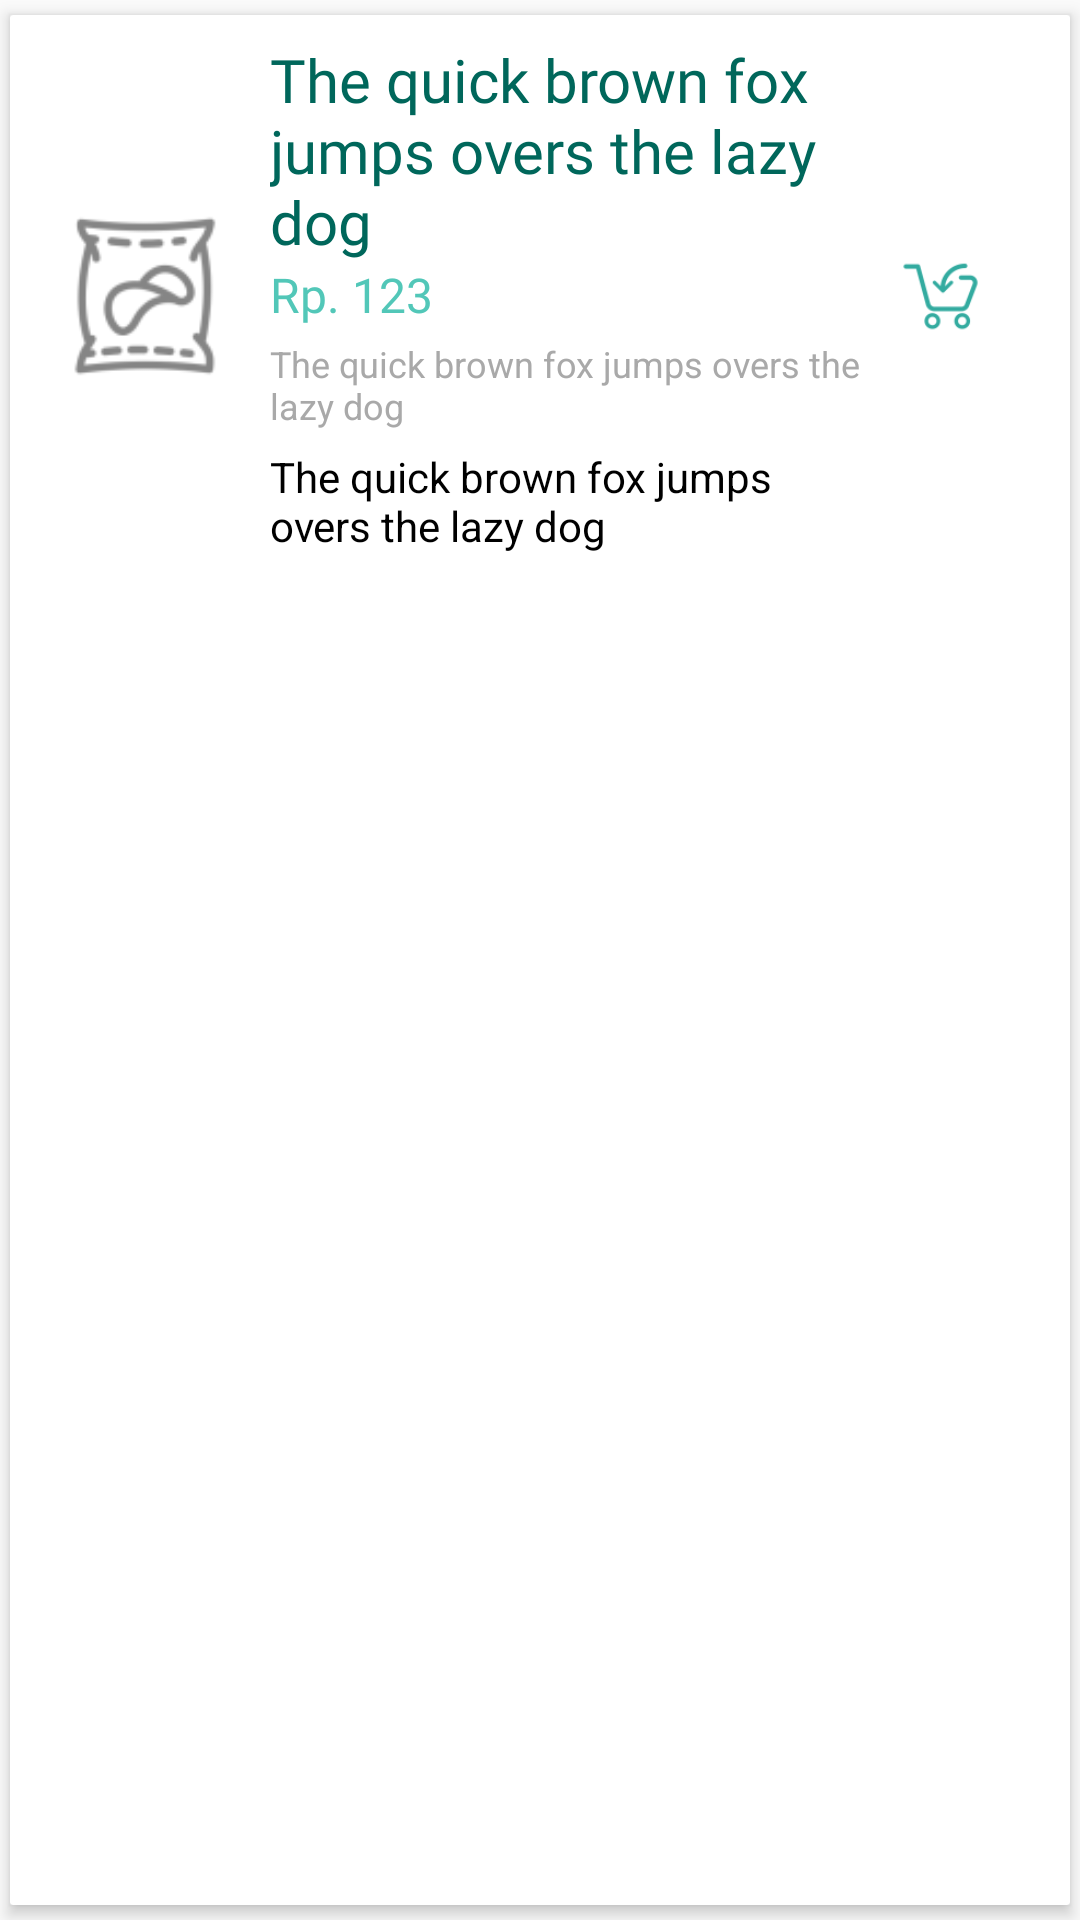

Locate icon controls on the screen. Image size 1080w x 1920h, boxes as bbox(x1, y1, x2, y2).
add to cart: bbox(903, 263, 978, 330)
snack: bbox(75, 218, 215, 374)
